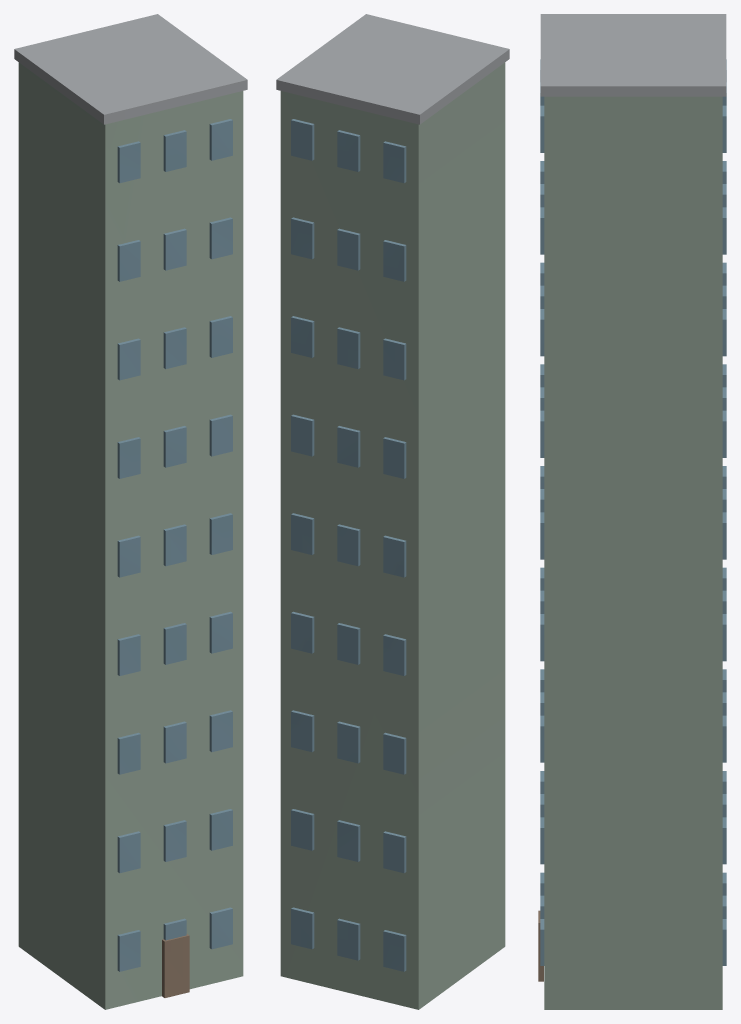
The model's file is tower-00.glb.
3 renders of one model, left to right at view 1: azimuth 30°, elevation 25°; view 2: azimuth 150°, elevation 25°; view 3: azimuth 270°, elevation 25°, orthographic. The views are drawn at different scales.
Visible parts, largest first — view 1: world; view 2: world; view 3: world.
Boxes of the visible parts, <box> form: world: <box>14,14,247,1009</box>; world: <box>276,14,509,1009</box>; world: <box>538,14,726,1009</box>.
Bounding box in the file's own units: 1.06 × 6.33 × 1.17.
